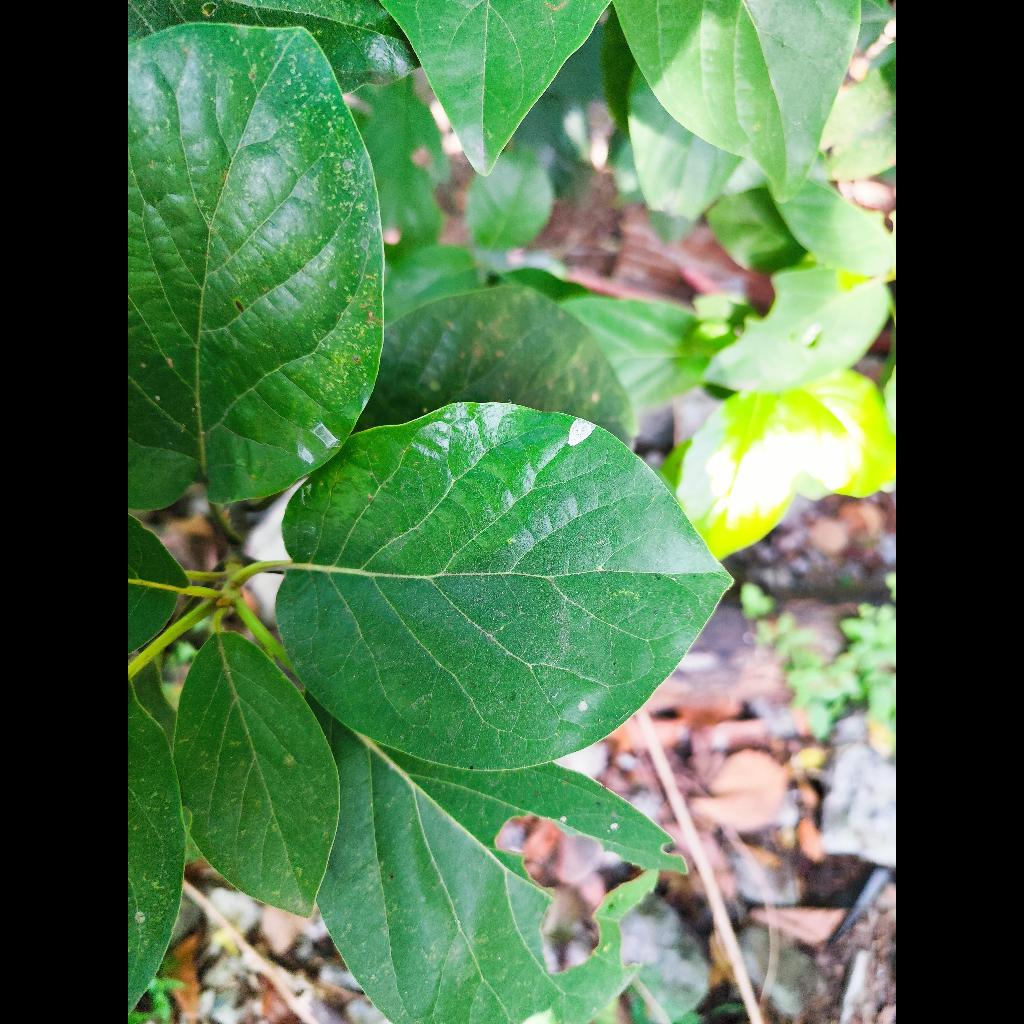Healthy: (277, 404, 727, 771)
